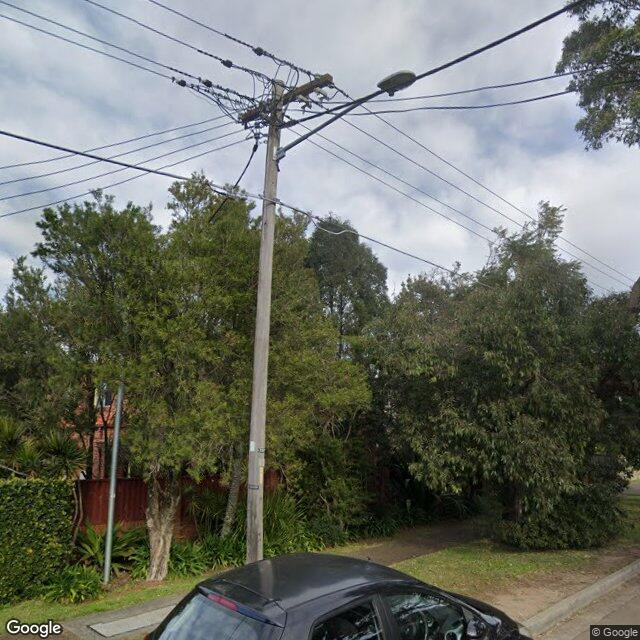crossarm: (239, 74, 333, 125)
steel-pole: (103, 384, 124, 582)
streetlight: (274, 70, 417, 163)
timber-pole: (245, 78, 285, 565)
